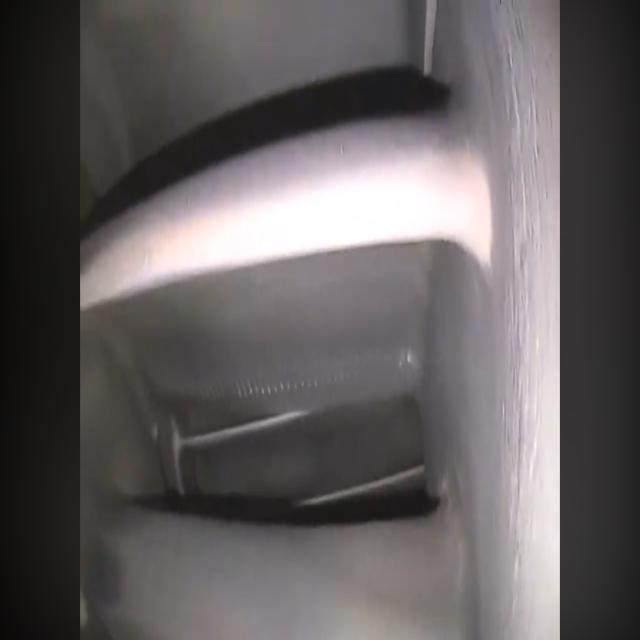turbine_blade: (77, 110, 491, 401), (79, 0, 439, 168)
